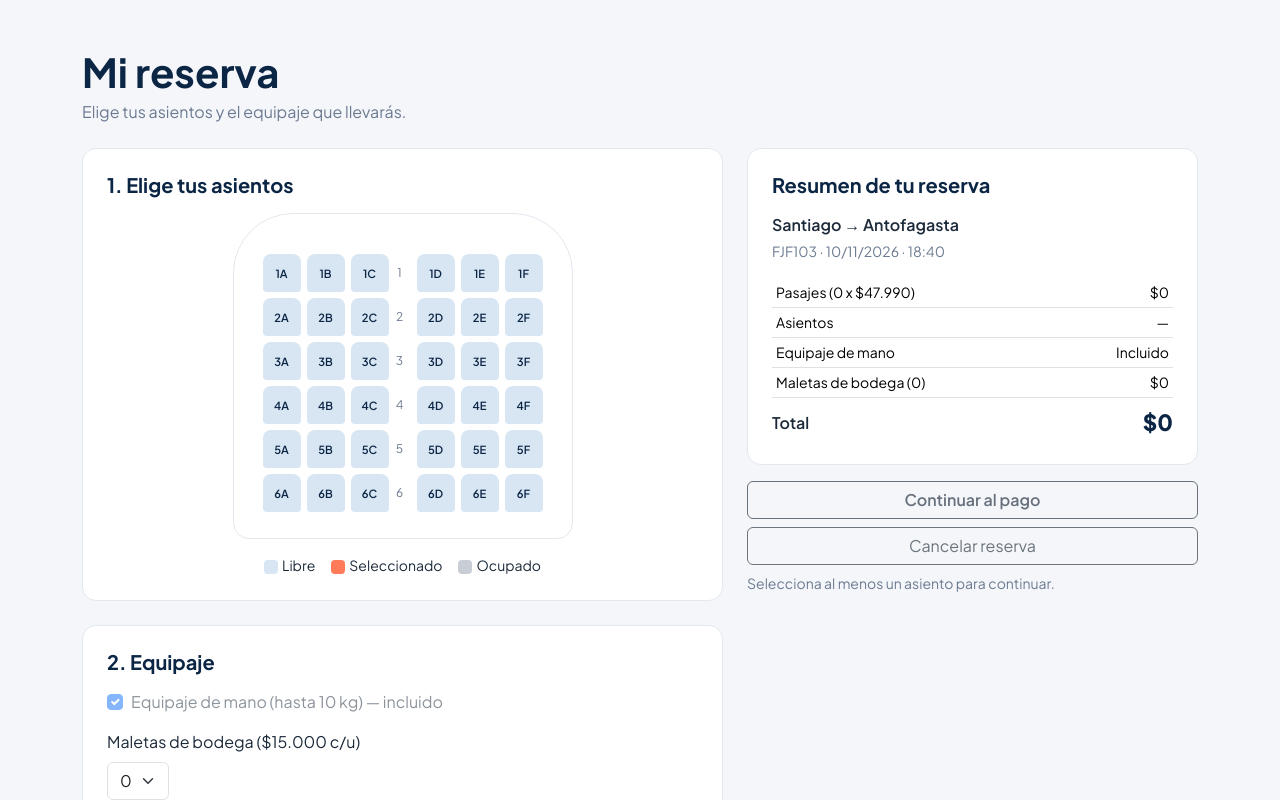
Scenario: MiReserva › al elegir asientos y maletas se recalcula el total
Click the button "1A" at (282, 273), box [262,254,300,292]
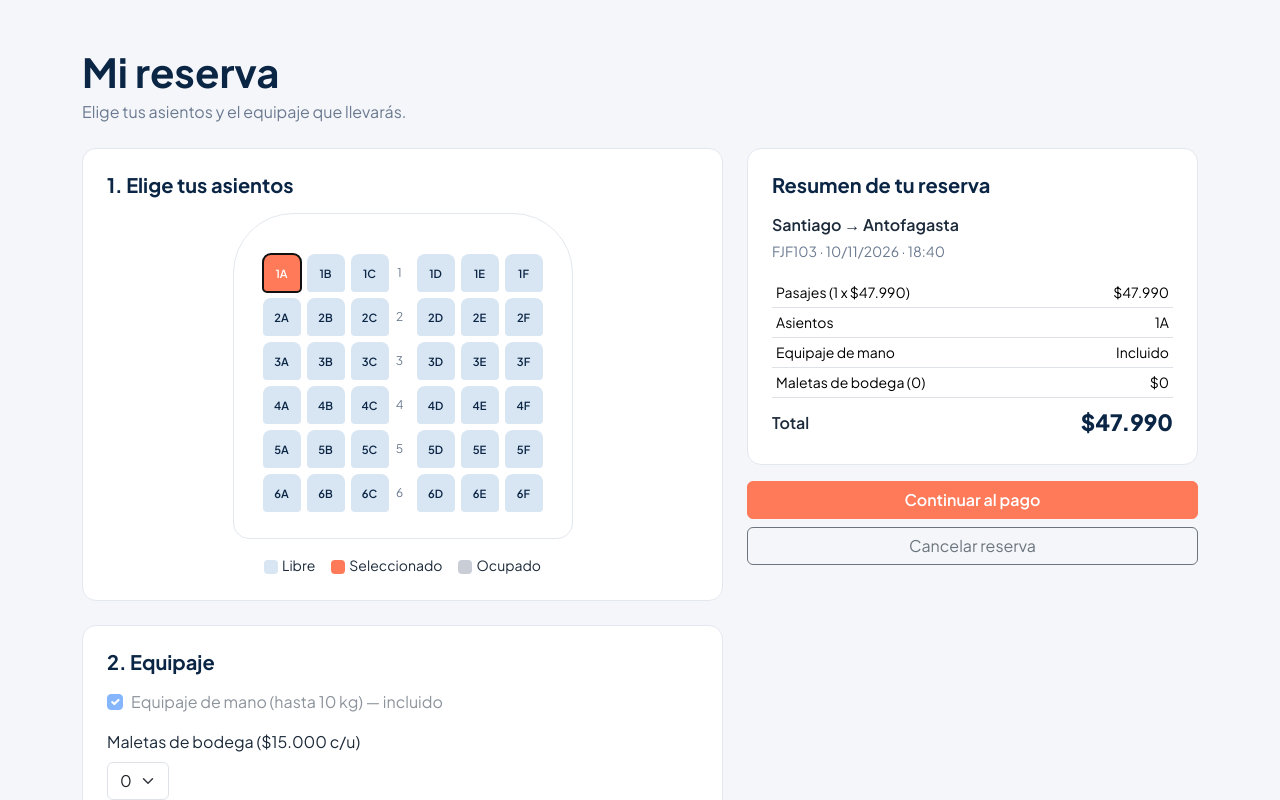
Click the button "1B" at (326, 273), box [306,254,344,292]
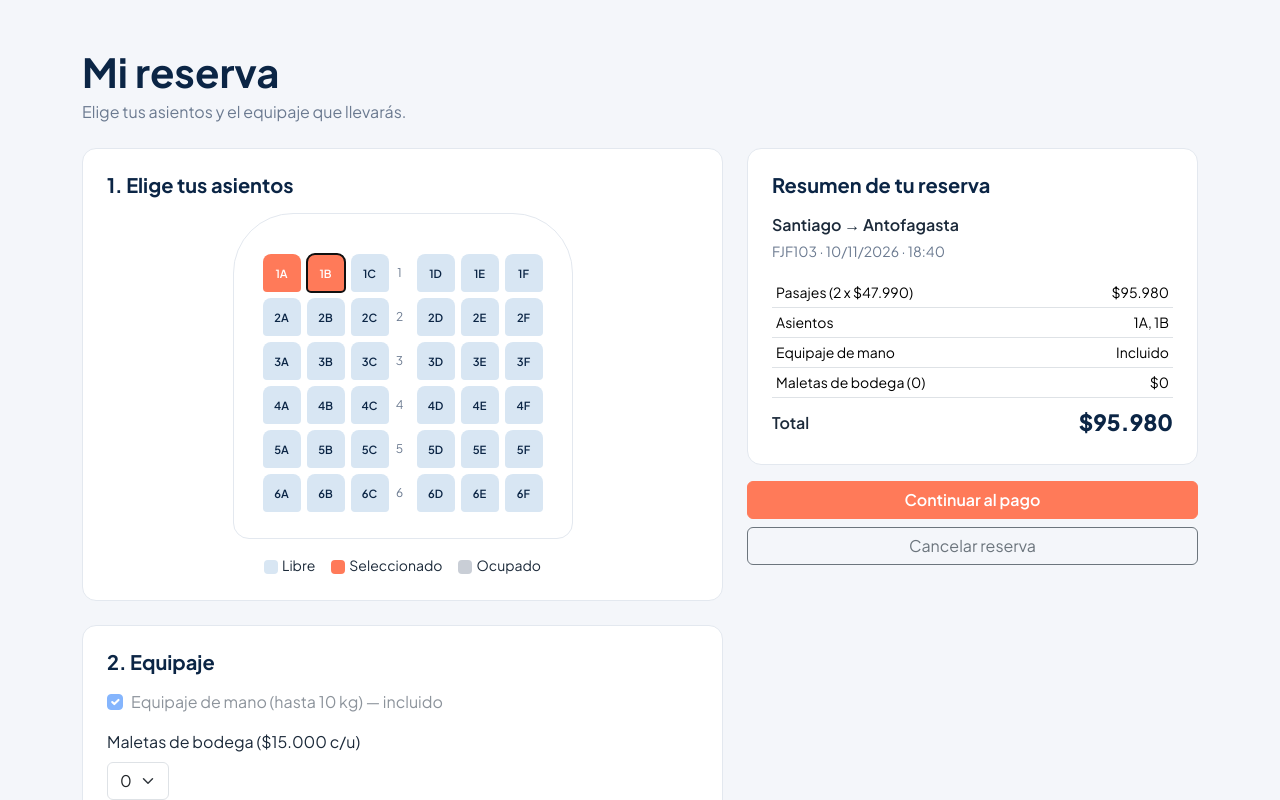
Select "1" in the dropdown labelled "Maletas de bodega ($15.000 c/u)" at (138, 781), box [107,762,169,799]
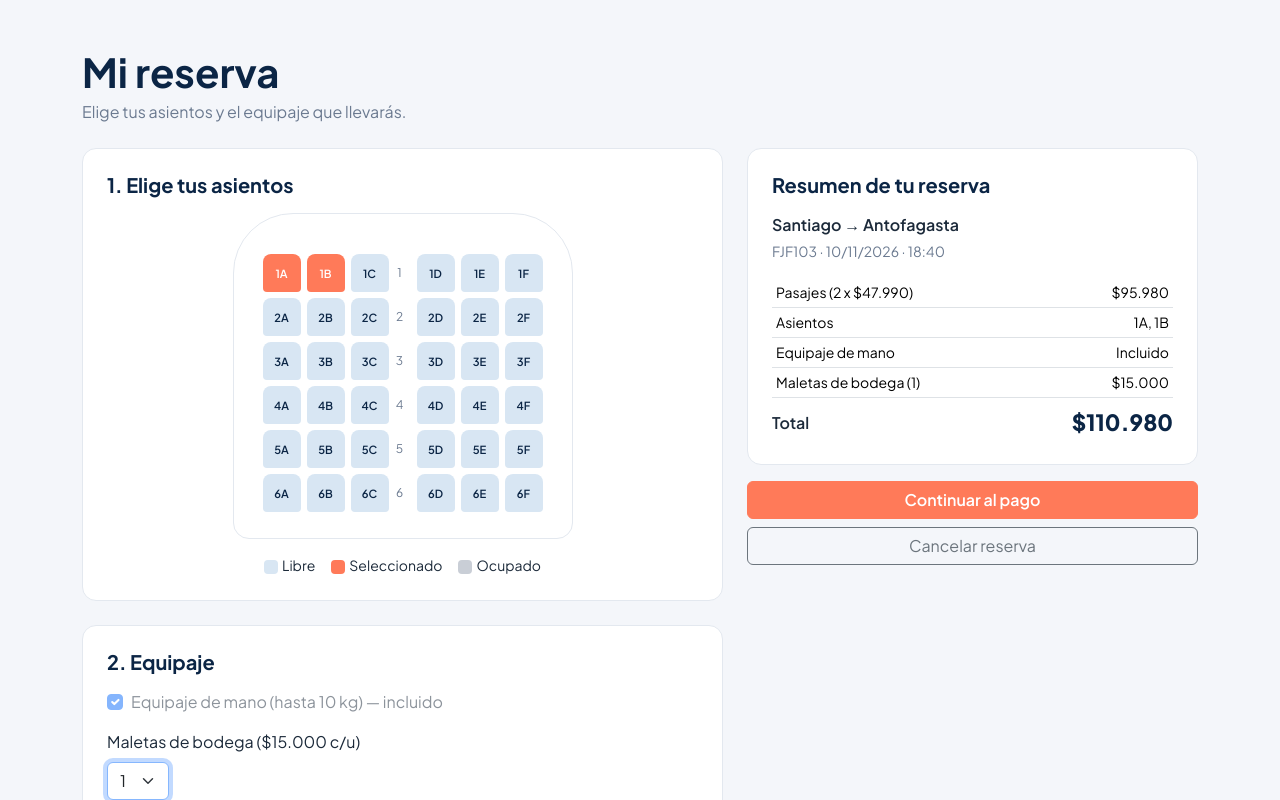
Now the text "$110.980" is shown, box [1072,406,1173,440]
